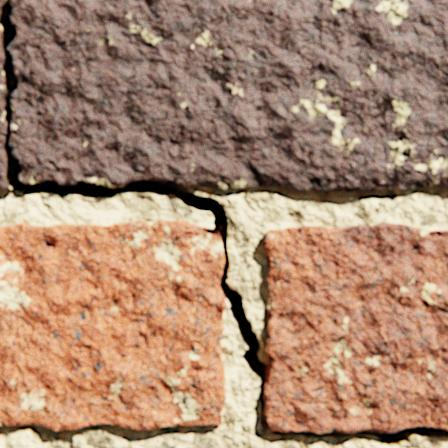brick: (0, 219, 226, 430), (263, 222, 447, 432)
broken_brick: (0, 0, 447, 191), (0, 28, 13, 188)
crack: (0, 2, 447, 446)
